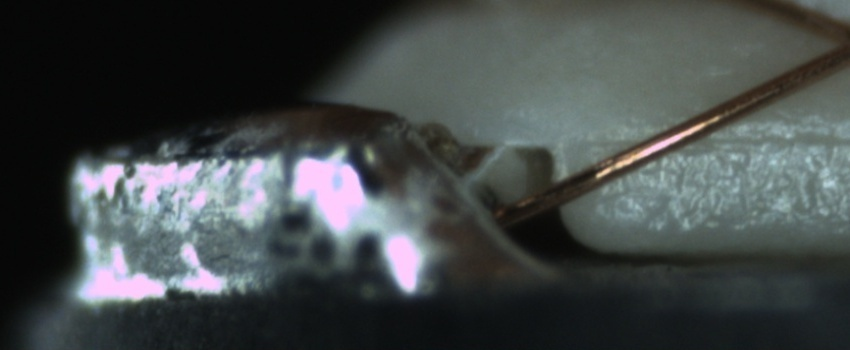DL: (604, 108, 850, 173)
